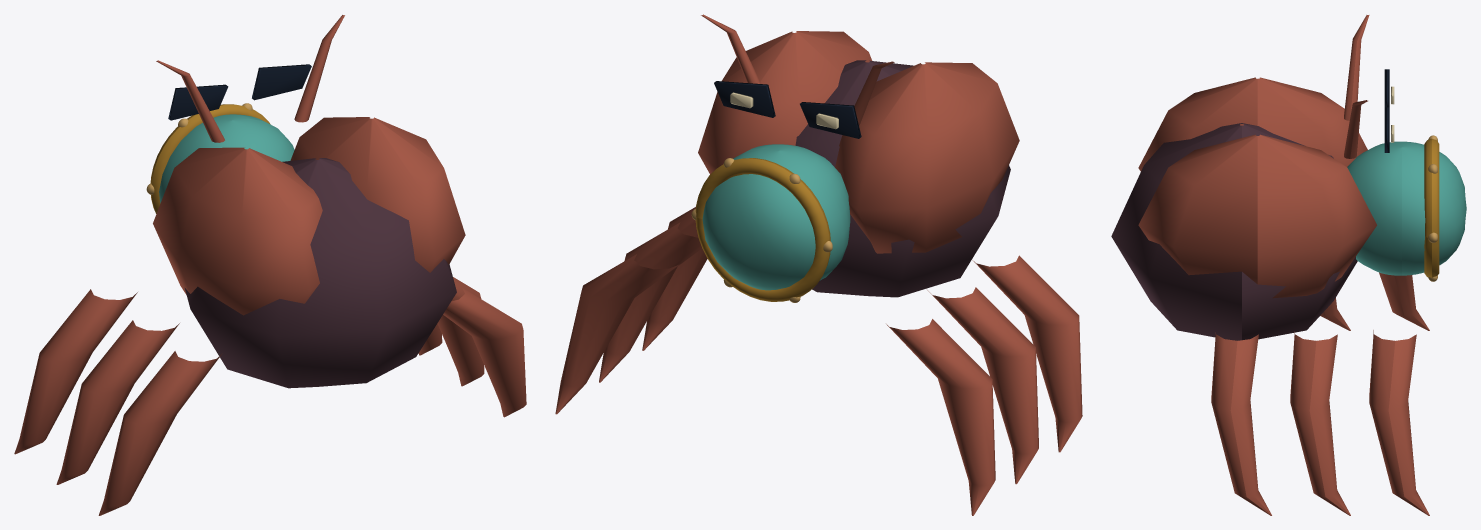
Rendered from creature_4_1.glb.
3 views of the same model, side by side, from view 1: azimuth 30°, elevation 25°; view 2: azimuth 150°, elevation 25°; view 3: azimuth 270°, elevation 25° (orthographic). The views are drawn at different scales.
Parts seen in each view (by area): view 1: ArmouredAbdomen, SplitCarapace-1, SplitCarapace1, LegSegment0, LegSegment1, LegSegment2, LegSegment5, GlassCore, InkEye (×2), LegSegment4, CoreFrame, Antenna1 (+1 smaller); view 2: SplitCarapace-1, GlassCore, SplitCarapace1, ArmouredAbdomen, LegSegment1, LegSegment2, LegSegment0, LegSegment3, CoreFrame, LegSegment4, InkEye (×2), LegSegment5 (+2 smaller); view 3: SplitCarapace1, ArmouredAbdomen, GlassCore, SplitCarapace-1, LegSegment3, LegSegment4, LegSegment5, CoreFrame, LegSegment0, Antenna-1, Antenna1.
Part boxes in pixels (bbox=[...]): ArmouredAbdomen: bbox=[185, 158, 456, 388]; SplitCarapace-1: bbox=[153, 147, 322, 315]; SplitCarapace1: bbox=[290, 117, 465, 272]; LegSegment0: bbox=[14, 289, 137, 454]; LegSegment1: bbox=[56, 320, 179, 484]; LegSegment2: bbox=[98, 351, 222, 515]; LegSegment5: bbox=[443, 288, 526, 417]; GlassCore: bbox=[159, 114, 294, 203]; InkEye (×2): bbox=[168, 64, 311, 120]; LegSegment4: bbox=[437, 277, 484, 386]; CoreFrame: bbox=[150, 104, 270, 213]; Antenna1: bbox=[294, 15, 344, 122]; SplitCarapace-1: bbox=[835, 62, 1019, 253]; GlassCore: bbox=[702, 144, 850, 290]; SplitCarapace1: bbox=[698, 31, 872, 174]; ArmouredAbdomen: bbox=[795, 60, 1010, 297]; LegSegment1: bbox=[927, 287, 1038, 484]; LegSegment2: bbox=[972, 255, 1082, 452]; LegSegment0: bbox=[886, 319, 995, 515]; LegSegment3: bbox=[555, 254, 679, 414]; CoreFrame: bbox=[695, 158, 830, 301]; LegSegment4: bbox=[599, 222, 701, 382]; InkEye (×2): bbox=[714, 81, 861, 138]; LegSegment5: bbox=[642, 207, 707, 350]; SplitCarapace1: bbox=[1138, 134, 1376, 298]; ArmouredAbdomen: bbox=[1111, 123, 1357, 340]; GlassCore: bbox=[1347, 141, 1466, 275]; SplitCarapace-1: bbox=[1138, 77, 1367, 171]; LegSegment3: bbox=[1369, 330, 1429, 515]; LegSegment4: bbox=[1290, 331, 1350, 515]; LegSegment5: bbox=[1211, 332, 1271, 515]; CoreFrame: bbox=[1424, 138, 1439, 277]; LegSegment0: bbox=[1379, 272, 1429, 330]; Antenna-1: bbox=[1344, 15, 1369, 120]; Antenna1: bbox=[1344, 100, 1367, 158].
Size of the model in its own units: 2.01 by 1.79 by 1.58.
